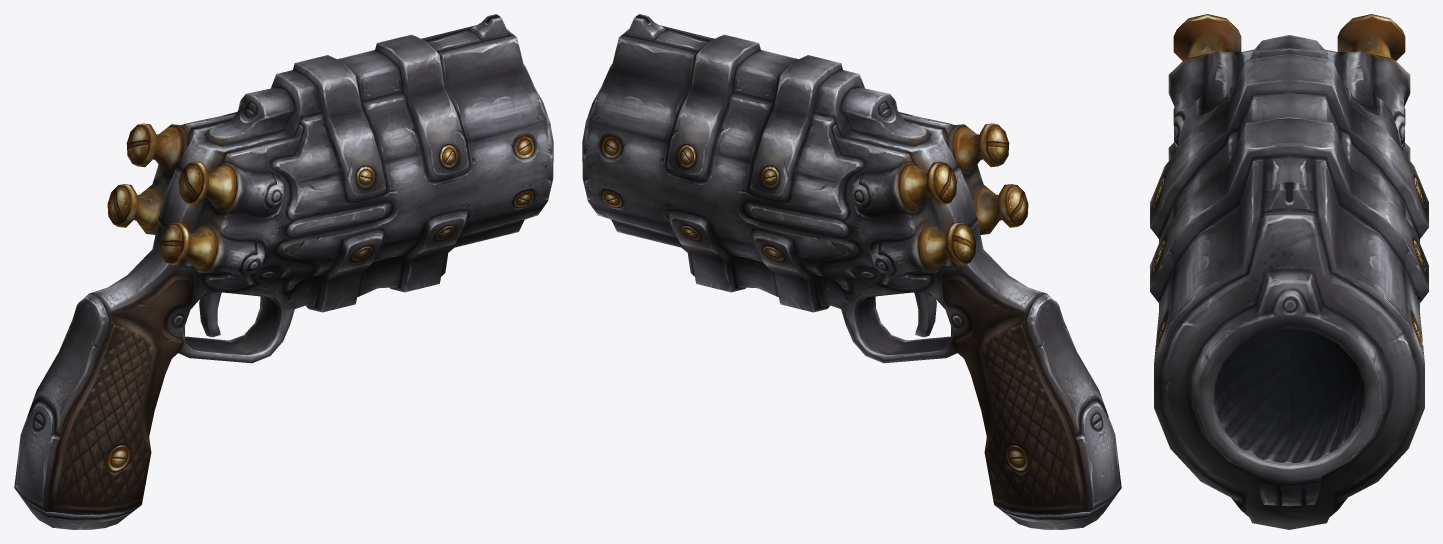
Rendered from gun.glb.
The picture shows the model from 3 angles, left to right: view 1: azimuth 30°, elevation 25°; view 2: azimuth 150°, elevation 25°; view 3: azimuth 270°, elevation 25°; orthographic projection. The views are drawn at different scales.
Parts seen in each view (by area): view 1: Object_2; view 2: Object_2; view 3: Object_2.
Boxes of the visible parts, box(x1,y1,x2,y2) form: Object_2: box(14, 14, 553, 529); Object_2: box(582, 14, 1121, 529); Object_2: box(1150, 14, 1428, 529).
Size of the model in its own units: 10.97 by 8.51 by 3.38.
1 material, 1 textured.
